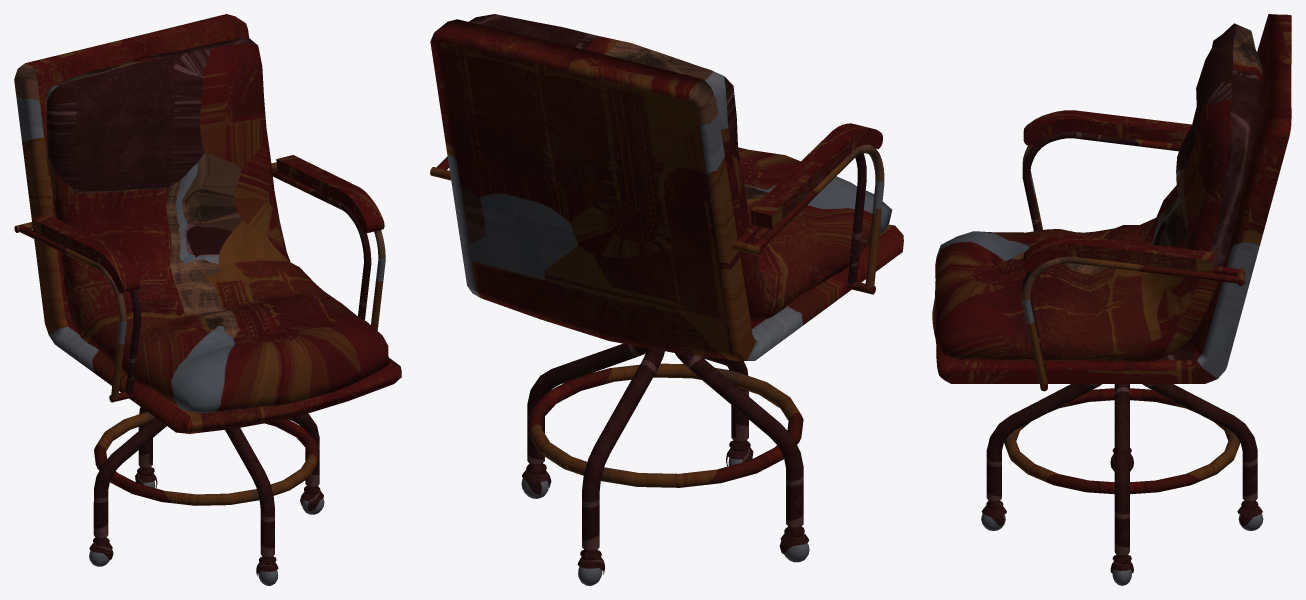
File: chair.obj
3 renders of one model, left to right at view 1: azimuth 30°, elevation 25°; view 2: azimuth 150°, elevation 25°; view 3: azimuth 270°, elevation 25°, orthographic. The views are drawn at different scales.
Visible parts, largest first — view 1: chairtop_chair_0, chairbottom_chair_0; view 2: chairtop_chair_0, chairbottom_chair_0; view 3: chairtop_chair_0, chairbottom_chair_0.
Boxes of the visible parts, left/top/right/bottom form: chairtop_chair_0: left=14, top=14, right=401, bottom=433; chairbottom_chair_0: left=89, top=407, right=324, bottom=585; chairtop_chair_0: left=430, top=14, right=903, bottom=360; chairbottom_chair_0: left=521, top=343, right=809, bottom=585; chairtop_chair_0: left=932, top=14, right=1291, bottom=391; chairbottom_chair_0: left=981, top=384, right=1263, bottom=585.
Size of the model in its own units: 0.7327 by 1.15 by 0.8075.
